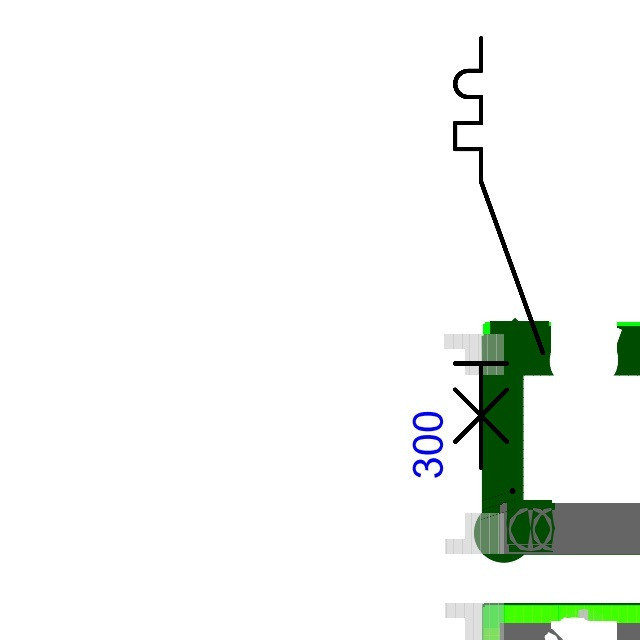interruptor_termomagnetico: (444, 27, 554, 479)
